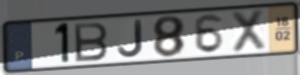1: (51, 21, 72, 66)
6: (192, 13, 225, 55)
8: (151, 14, 189, 59)
B: (71, 21, 110, 64)
J: (116, 19, 146, 59)
X: (229, 8, 268, 55)
